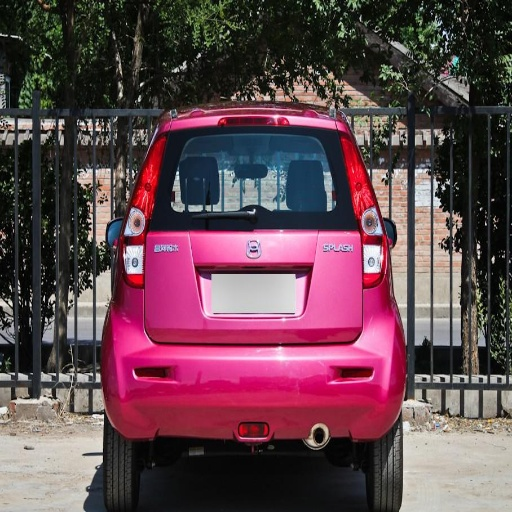back_bumper: (108, 284, 406, 449)
tailgate: (215, 280, 353, 343)
trunk: (131, 191, 376, 344)
